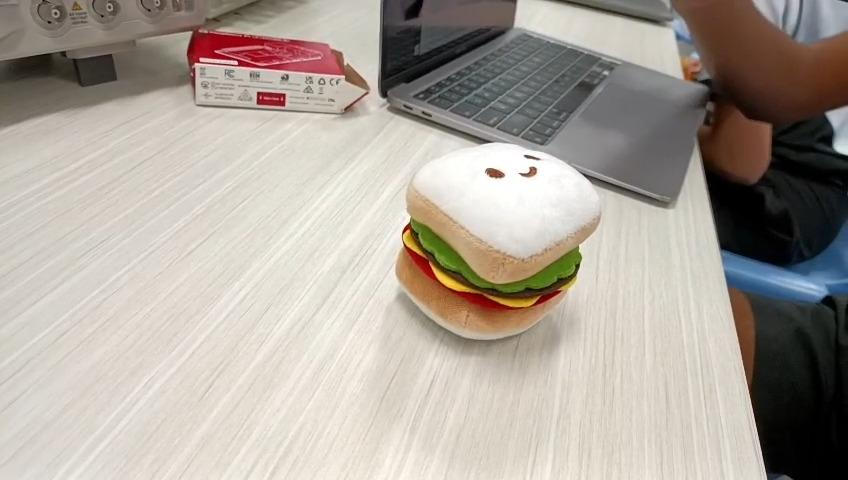objects: (393, 139, 608, 343)
